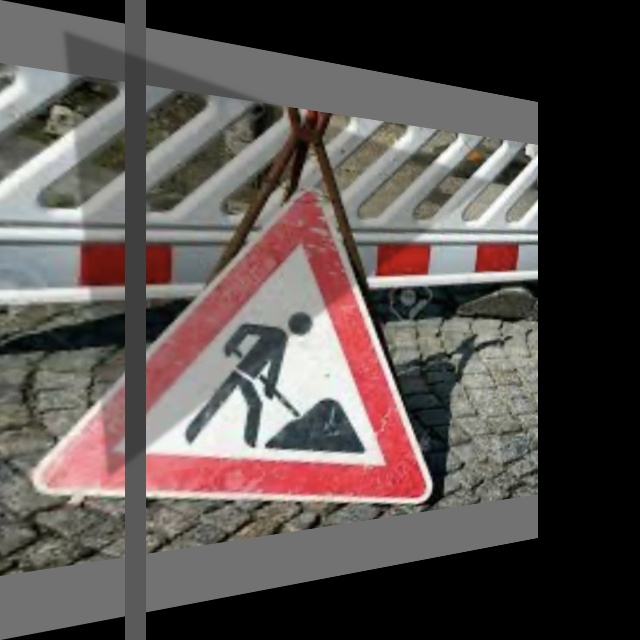Men_at_Work: (96, 181, 434, 549)
